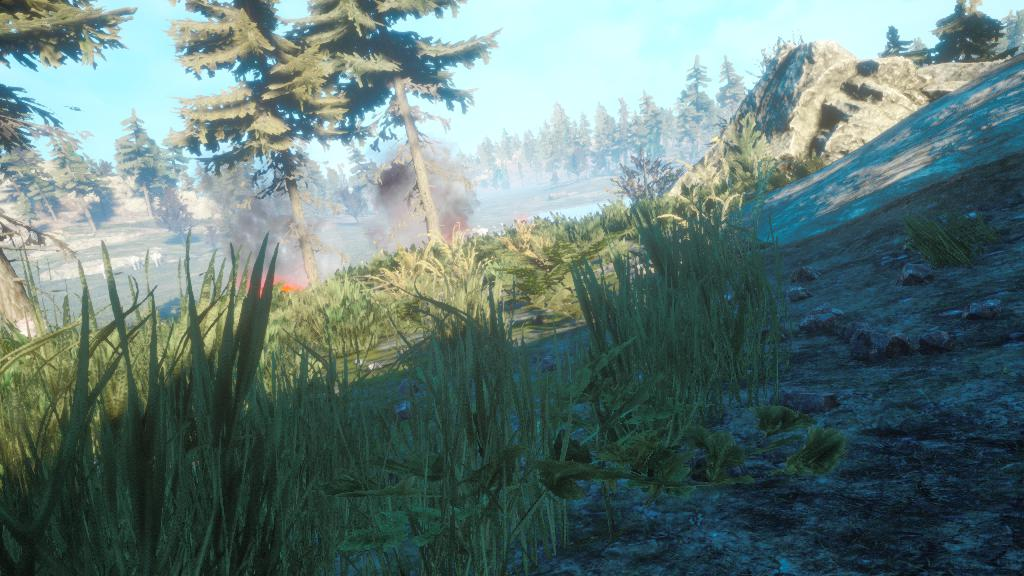Fire: (229, 268, 313, 305)
smoke: (203, 167, 336, 278), (352, 154, 486, 235)
